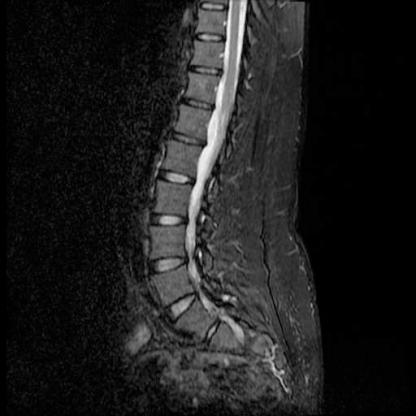Annular Disc Relaxationrotation: (196, 316, 229, 342), (164, 295, 202, 315)
Degenerative Disc Diseaserotation: (196, 316, 229, 342), (164, 295, 202, 315), (161, 170, 194, 185)
Disc Bulgerotation: (161, 169, 194, 184)
